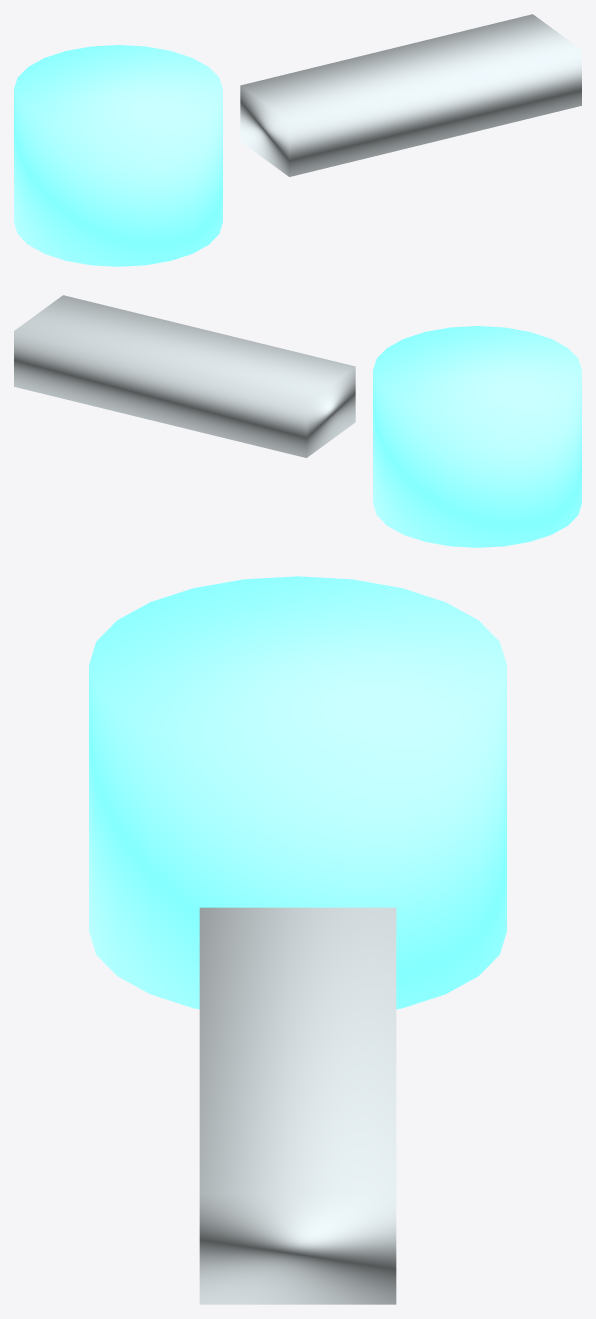
Rendered from flipper.glb.
3 views of the same model, one above another, from view 1: azimuth 30°, elevation 25°; view 2: azimuth 150°, elevation 25°; view 3: azimuth 270°, elevation 25° (orthographic). The views are drawn at different scales.
Parts seen in each view (by area): view 1: Cylinder, Cube; view 2: Cylinder, Cube; view 3: Cylinder, Cube.
Boxes of the visible parts, left/top/right/bottom form: Cylinder: left=14, top=45, right=222, bottom=266; Cube: left=240, top=14, right=581, bottom=176; Cylinder: left=373, top=326, right=581, bottom=547; Cube: left=14, top=295, right=355, bottom=457; Cylinder: left=89, top=576, right=506, bottom=1009; Cube: left=199, top=907, right=396, bottom=1304.
Size of the model in its own units: 0.995 by 0.24 by 0.34.
